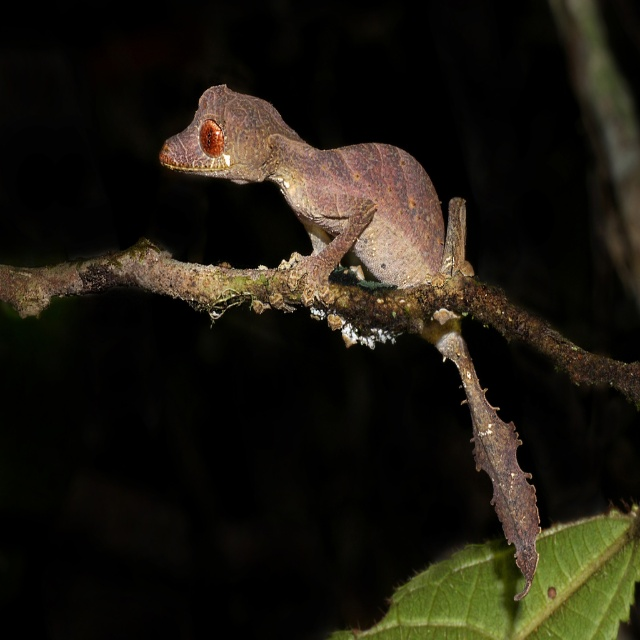Lizard: (155, 78, 542, 599)
